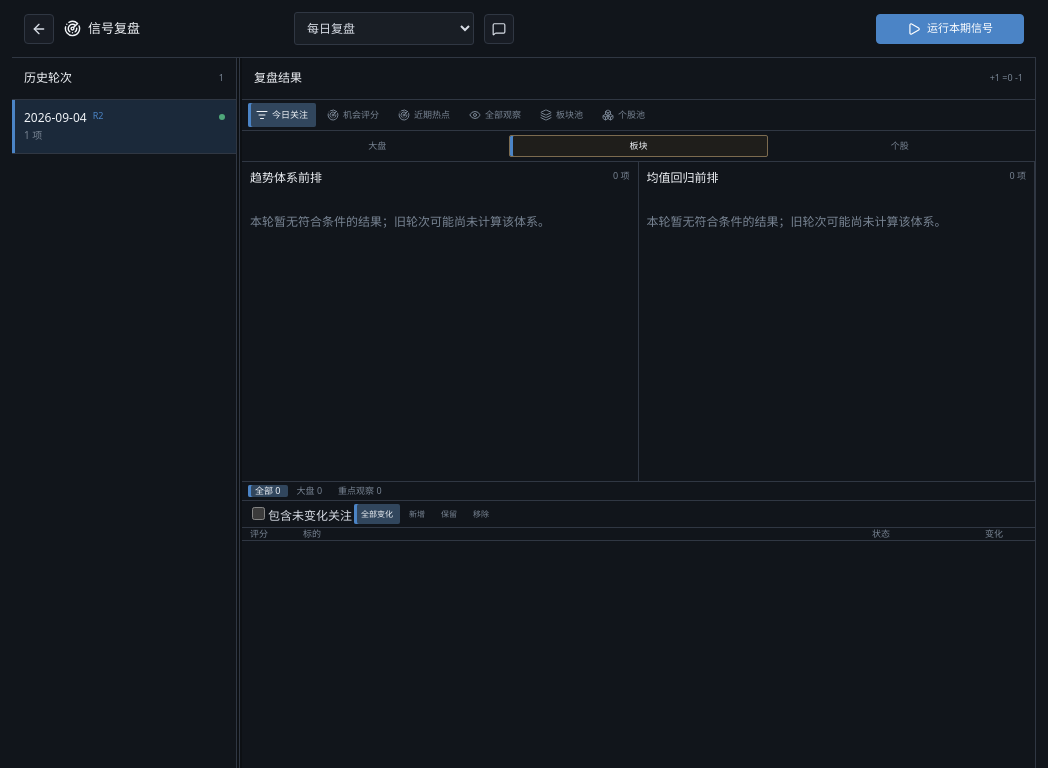
SignalReviewWorkspace › shows stable visible hotspots under the default all filter
Click the button "近期热点" at (424, 115), box [390, 103, 458, 127]
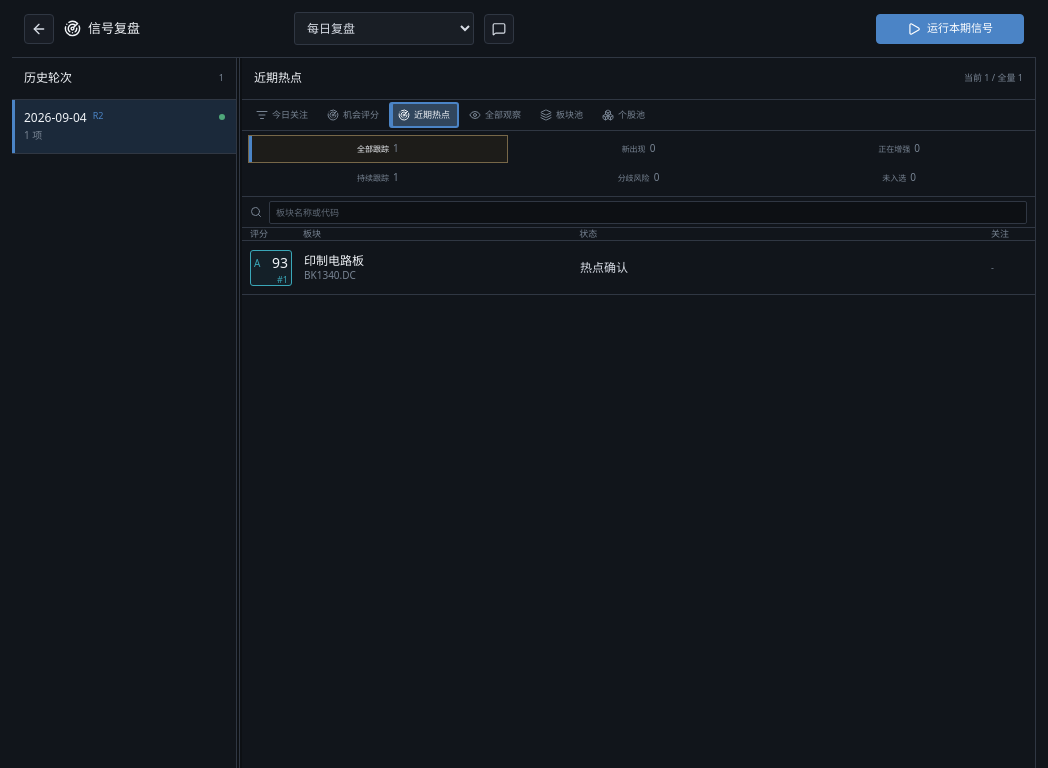
expect the text "印制电路板" is shown: met, box [304, 253, 364, 269]
